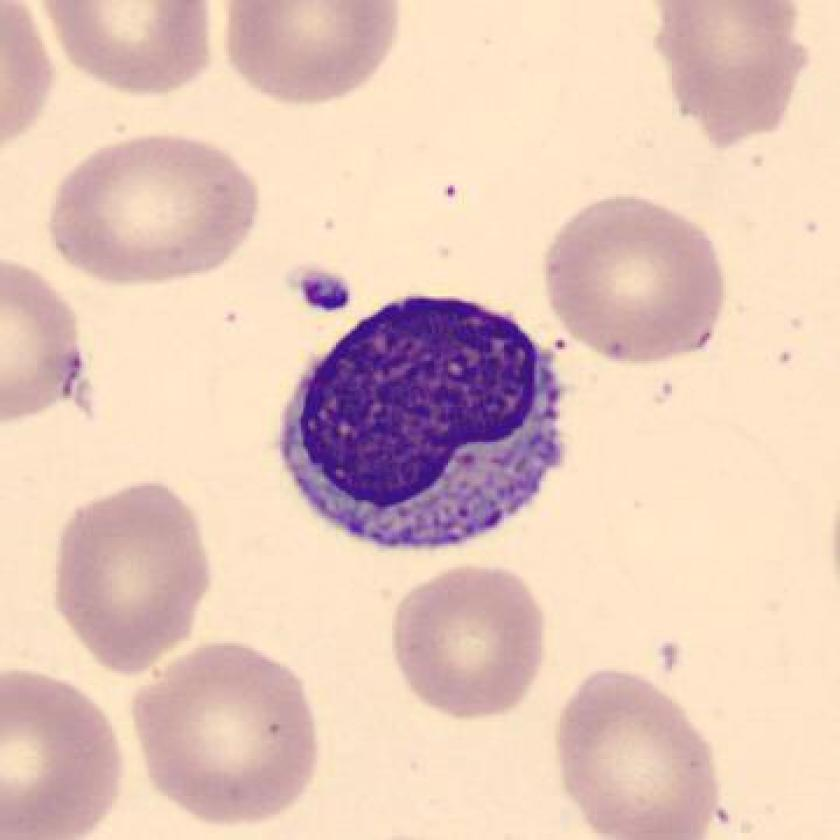lymphocyte: (272, 286, 573, 575)
